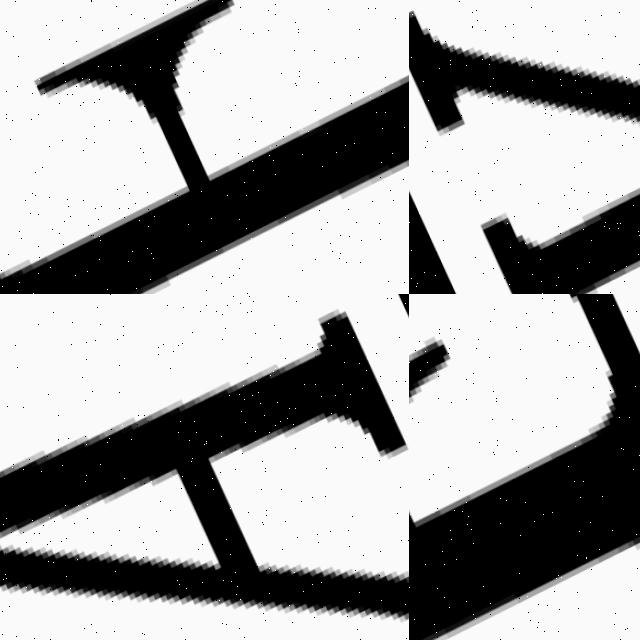A: (0, 294, 409, 640)
E: (409, 294, 640, 640)
F: (0, 0, 409, 294)
Y: (409, 0, 640, 294)
